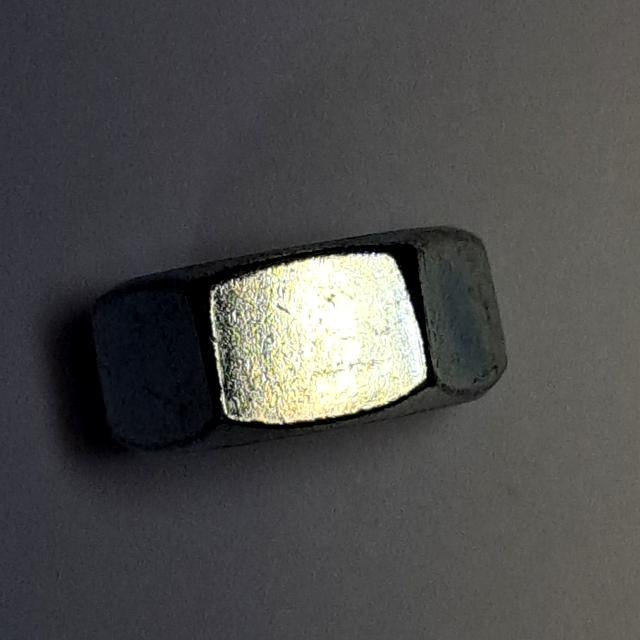Side_Excellent: (68, 209, 517, 475)
